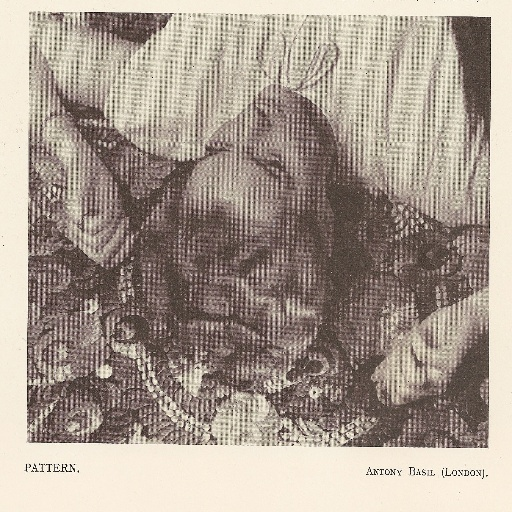hand: (374, 288, 478, 418), (62, 149, 140, 274)
